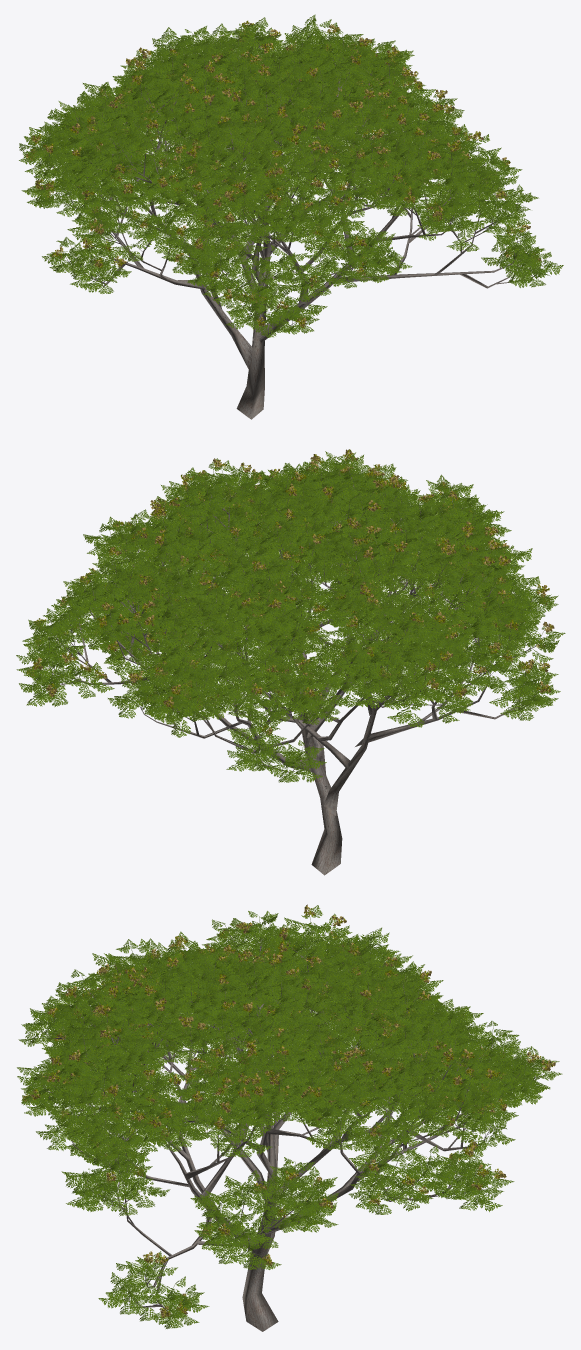
File: Melia azedarach HD_Wild no flower mat 50_LOD3.fbx
3 renders of one model, top to bottom at view 1: azimuth 30°, elevation 25°; view 2: azimuth 150°, elevation 25°; view 3: azimuth 270°, elevation 25°, orthographic. The views are drawn at different scales.
Visible parts, largest first — view 1: Melia_azedarach_HD; view 2: Melia_azedarach_HD; view 3: Melia_azedarach_HD.
Boxes of the visible parts, x1,y1,x2,y2 form: Melia_azedarach_HD: [19, 14, 563, 419]; Melia_azedarach_HD: [16, 449, 565, 875]; Melia_azedarach_HD: [17, 904, 562, 1331].
Bounding box in the file's own units: 8.71 × 6.41 × 8.34.
